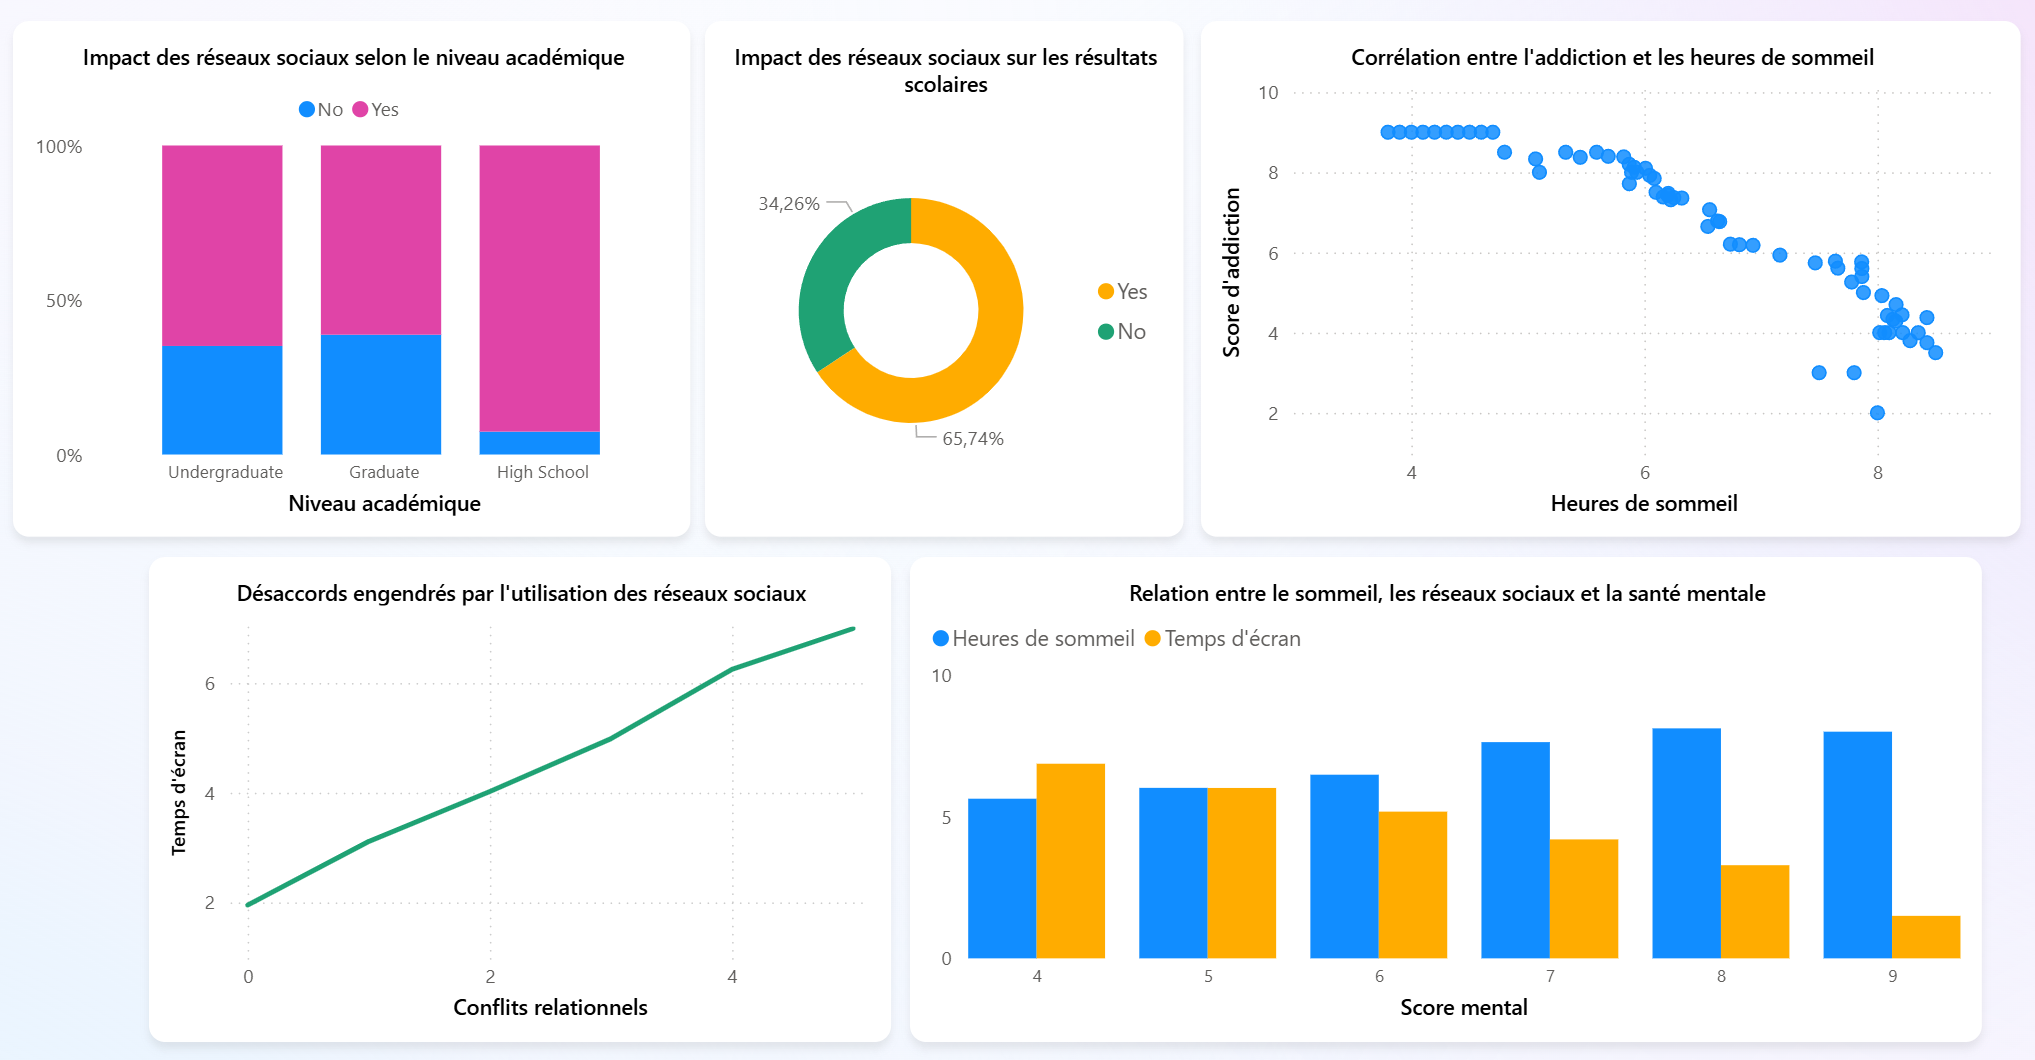

Layout of this report page (visuals, bound fields, positions):
{"tool":"powerbi","page":{"name":"Page 2","canvas":[1280,720],"ordinal":1},"visuals":[{"type":"lineChart","title":"Désaccords engendrés par l''utilisation des réseaux sociaux","fields":{"Category":["Students Social Media Addiction.Conflicts_Over_Social_Media"],"Y":["Avg(Students Social Media Addiction.Avg_Daily_Usage_Hours)"]},"box":[100.3,371.7,458.6,299.6],"z":0},{"type":"clusteredColumnChart","title":"Relation entre le sommeil, les réseaux sociaux et la santé mentale","fields":{"Category":["Students Social Media Addiction.Mental_Health_Score"],"Y":["Avg(Students Social Media Addiction.Sleep_Hours_Per_Night)","Avg(Students Social Media Addiction.Avg_Daily_Usage_Hours)"]},"box":[571.1,371.7,662.8,299.6],"z":1},{"type":"donutChart","title":"Impact des réseaux sociaux sur les résultats scolaires ","fields":{"Category":["Students Social Media Addiction.Affects_Academic_Performance"],"Y":["Sum(Students Social Media Addiction.Index)"]},"box":[443.9,40.4,295.9,319.2],"z":2},{"type":"hundredPercentStackedColumnChart","title":"Impact des réseaux sociaux selon le niveau académique","fields":{"Category":["Students Social Media Addiction.Academic_Level"],"Y":["CountNonNull(Students Social Media Addiction.Student_ID)"],"Series":["Students Social Media Addiction.Affects_Academic_Performance"]},"box":[15.9,40.4,419.4,319.2],"z":3},{"type":"scatterChart","title":"Corrélation entre l''addiction et les heures de sommeil","fields":{"X":["Avg(Students Social Media Addiction.Sleep_Hours_Per_Night)"],"Category":["Students Social Media Addiction.Avg_Daily_Usage_Hours"],"Y":["Avg(Students Social Media Addiction.Addicted_Score)"]},"box":[750.8,40.4,507.5,319.2],"z":4}]}

Visuals, with their boxes on the page's 1280x720 design canvas (x1, y1, x2, y2). These are canvas units, not pixel positions in the 2035x1060 screenshot, which may show the page scaled, cropped or inside an application window:
"Désaccords engendrés par l''utilisation des réseaux sociaux" lineChart: l=100, t=372, r=559, b=671
"Relation entre le sommeil, les réseaux sociaux et la santé mentale" clusteredColumnChart: l=571, t=372, r=1234, b=671
"Impact des réseaux sociaux sur les résultats scolaires " donutChart: l=444, t=40, r=740, b=360
"Impact des réseaux sociaux selon le niveau académique" hundredPercentStackedColumnChart: l=16, t=40, r=435, b=360
"Corrélation entre l''addiction et les heures de sommeil" scatterChart: l=751, t=40, r=1258, b=360
